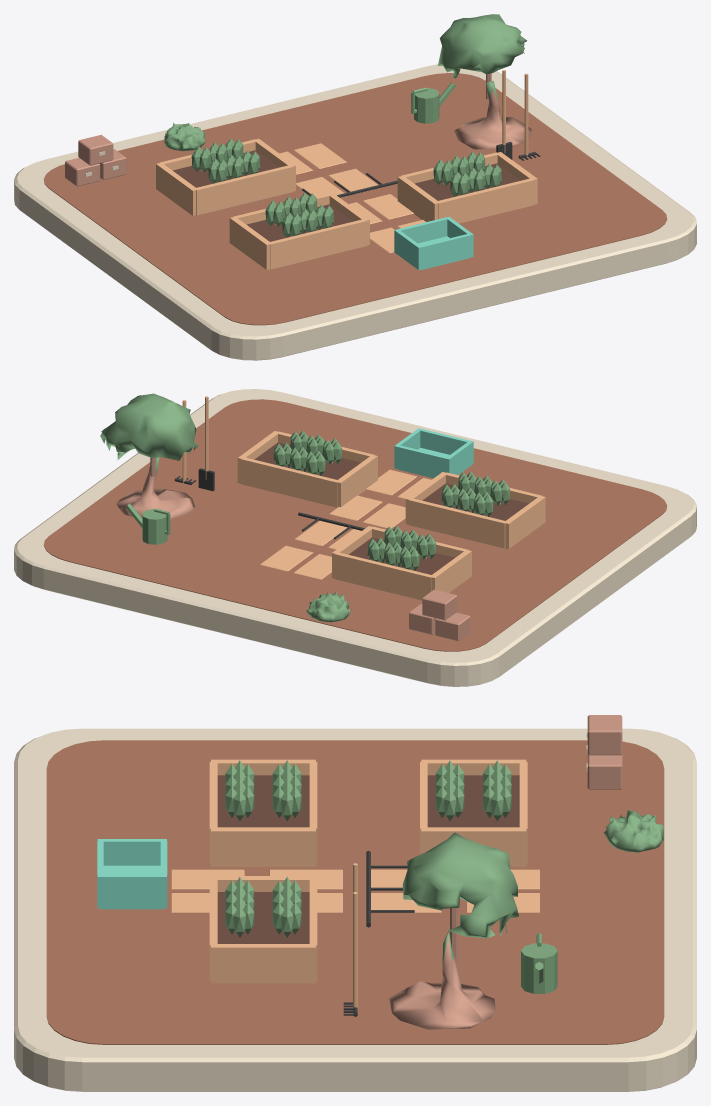
The model's file is room.fbx.
3 renders of one model, top to bottom at view 1: azimuth 30°, elevation 25°; view 2: azimuth 150°, elevation 25°; view 3: azimuth 270°, elevation 25°, orthographic. The views are drawn at different scales.
Visible parts, largest first — view 1: COM-02 Floor Surface, COM-01 Rounded Base Direct, 잎이 넓은 작은 나무, Border.010, Border.002, Border.006, Border, Bin end, Border.008, Border.004, 넓은 잎 풀 포기, Stacked case.002 (+15 smaller); view 2: COM-02 Floor Surface, COM-01 Rounded Base Direct, 잎이 넓은 작은 나무, Border.003, Border.007, Border.011, Border, Border.004, Bin end.001, Border.008, 넓은 잎 풀 포기, Stacked case.002 (+17 smaller); view 3: COM-02 Floor Surface, COM-01 Rounded Base Direct, 잎이 넓은 작은 나무, Border.001, Border.005, Soil.002, Soil, Soil.001, Bin side.001, Border.009, 넓은 잎 풀 포기, Can (+19 smaller).
Boxes of the visible parts, x1,y1,x2,y2 form: COM-02 Floor Surface: [43, 73, 667, 325]; COM-01 Rounded Base Direct: [14, 64, 696, 360]; 잎이 넓은 작은 나무: [437, 14, 531, 149]; Border.010: [194, 165, 292, 215]; Border.002: [269, 219, 366, 269]; Border.006: [438, 178, 534, 223]; Border: [229, 216, 271, 269]; Bin end: [420, 233, 470, 269]; Border.008: [156, 162, 196, 215]; Border.004: [397, 175, 439, 221]; 넓은 잎 풀 포기: [164, 123, 205, 151]; Stacked case.002: [78, 134, 113, 165]; COM-02 Floor Surface: [43, 399, 667, 651]; COM-01 Rounded Base Direct: [14, 389, 696, 686]; 잎이 넓은 작은 나무: [100, 393, 198, 519]; Border.003: [409, 498, 507, 548]; Border.007: [241, 457, 337, 507]; Border.011: [335, 553, 432, 600]; Border: [504, 495, 545, 548]; Border.004: [336, 454, 377, 507]; Bin end.001: [397, 445, 448, 477]; Border.008: [430, 550, 471, 592]; 넓은 잎 풀 포기: [306, 591, 351, 622]; Stacked case.002: [422, 589, 457, 620]; COM-02 Floor Surface: [46, 740, 664, 1044]; COM-01 Rounded Base Direct: [14, 728, 696, 1091]; 잎이 넓은 작은 나무: [389, 832, 518, 1029]; Border.001: [211, 827, 315, 866]; Border.005: [211, 944, 315, 983]; Soil.002: [427, 775, 519, 827]; Soil: [217, 775, 309, 827]; Soil.001: [217, 892, 309, 943]; Bin side.001: [97, 874, 166, 908]; Border.009: [421, 827, 526, 866]; 넓은 잎 풀 포기: [604, 810, 663, 852]; Can: [521, 943, 557, 993].
Bounding box in the file's own units: 600 × 166 × 520.
